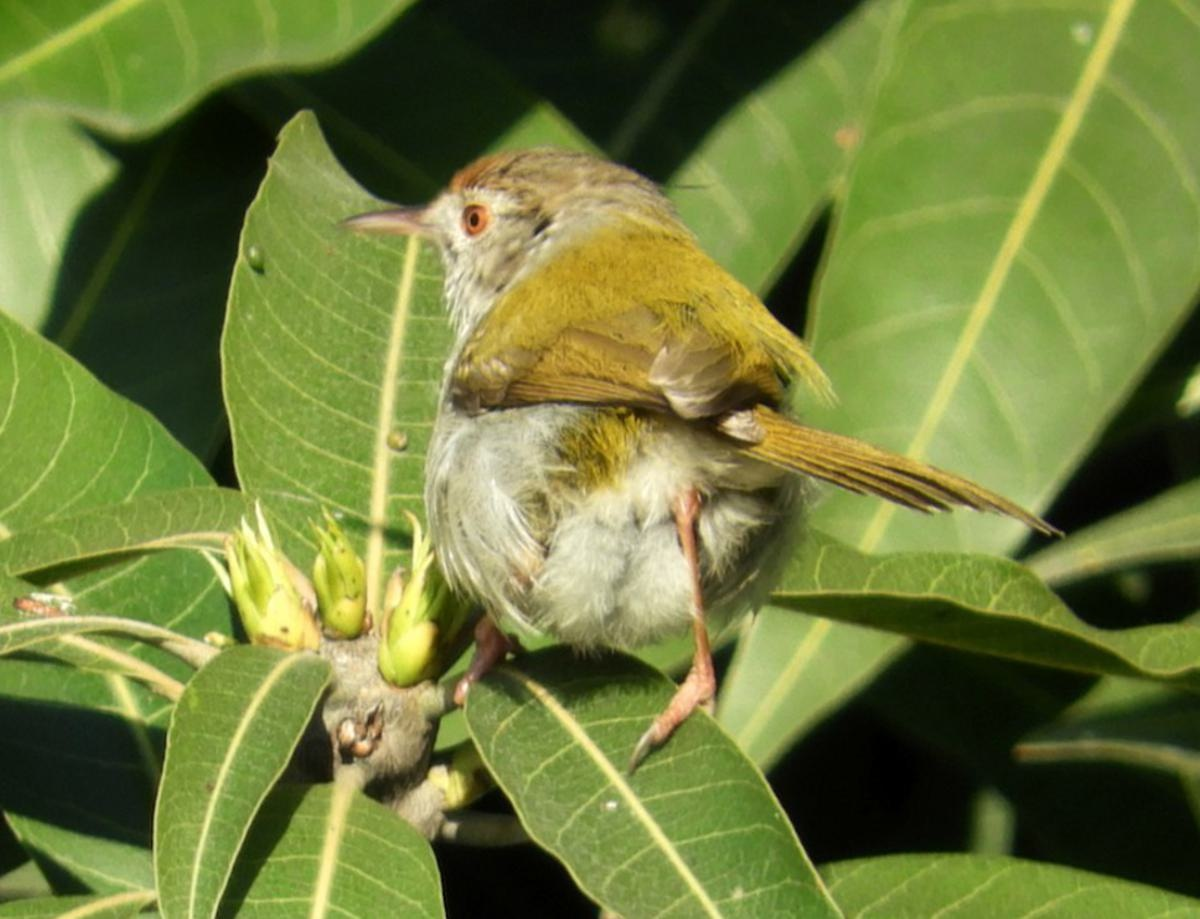tailorbird: (379, 93, 948, 731)
